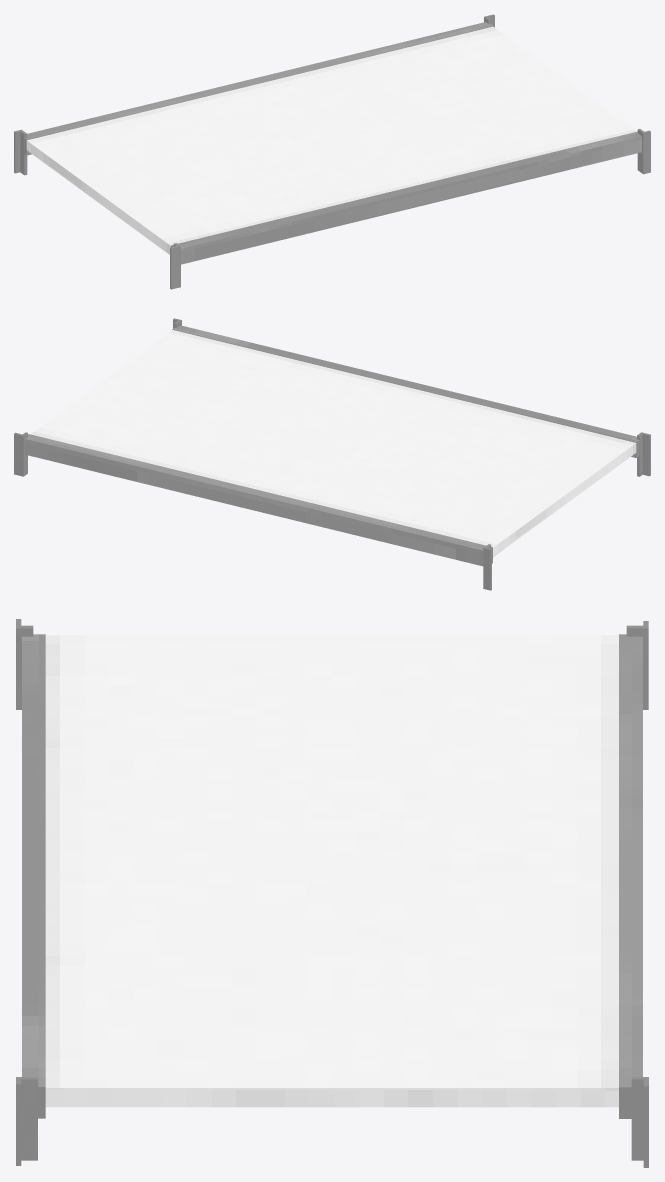
Rendered from StorageRackWideShelf.glb.
3 renders of one model, top to bottom at view 1: azimuth 30°, elevation 25°; view 2: azimuth 150°, elevation 25°; view 3: azimuth 270°, elevation 25°, orthographic. The views are drawn at different scales.
Parts seen in each view (by area): view 1: StorageRackWideShelf; view 2: StorageRackWideShelf; view 3: StorageRackWideShelf.
Part boxes in pixels (<box>): StorageRackWideShelf: <box>14,14,650,289</box>; StorageRackWideShelf: <box>14,318,650,590</box>; StorageRackWideShelf: <box>16,619,648,1167</box>.
Bounding box in the file's own units: 2.06 × 0.1679 × 1.18.
Materials: 1 (1 with a texture image).
